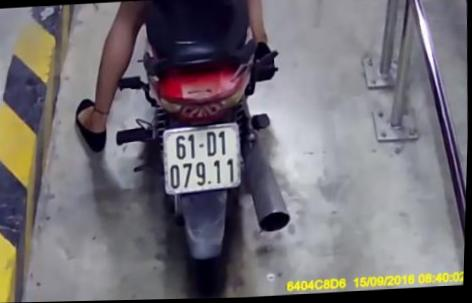LP: (160, 123, 248, 198)
